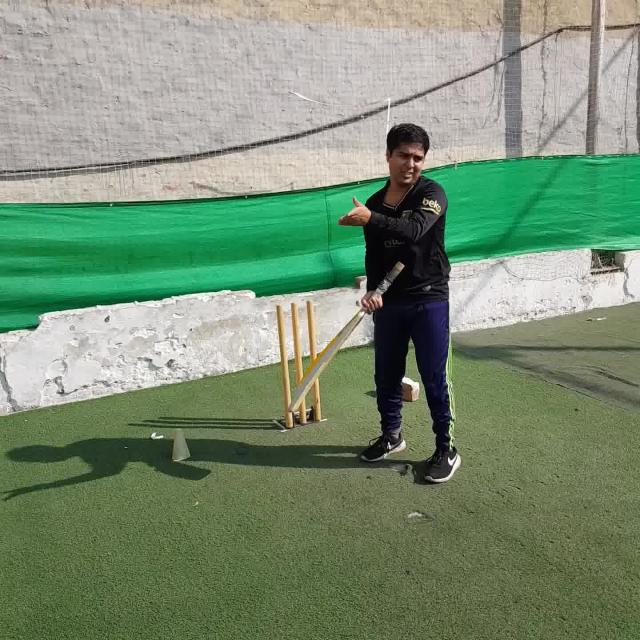bat: (287, 262, 403, 412)
